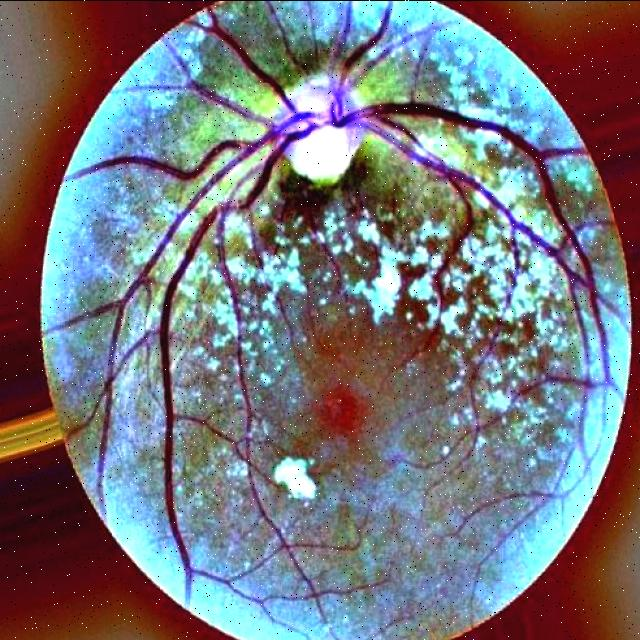Macula: (306, 374, 377, 458)
Nerves: (334, 95, 615, 411), (148, 130, 311, 595)
Optic Disk: (267, 62, 368, 192)
